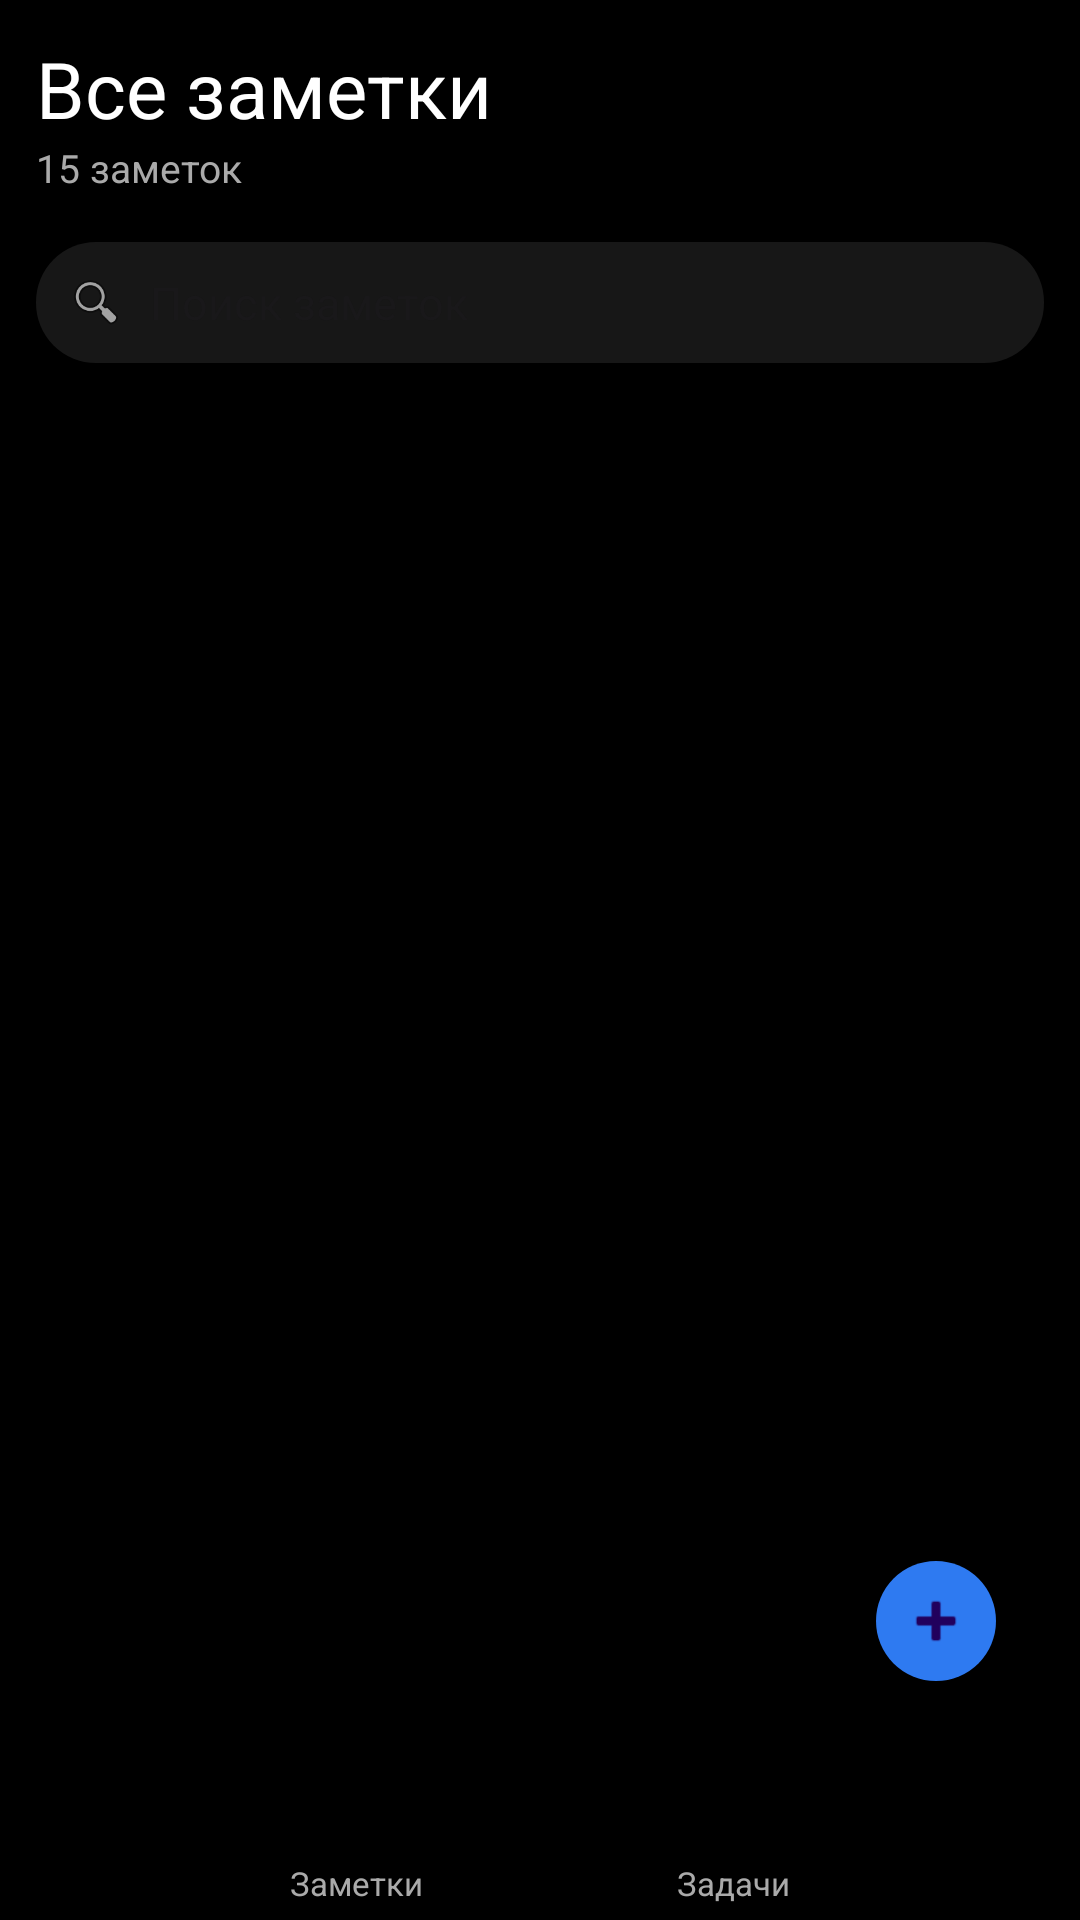

Screen size 1080 x 1920. Icon name, then its center in pixels as [x,y]:
add: [936,1621]
search: [96,302]
